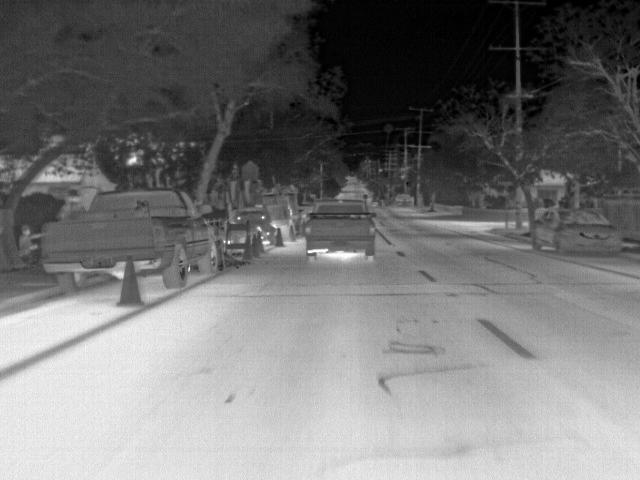car: (44, 184, 220, 288), (304, 196, 376, 258), (533, 208, 622, 253)
person: (18, 223, 43, 273), (57, 188, 85, 220)
